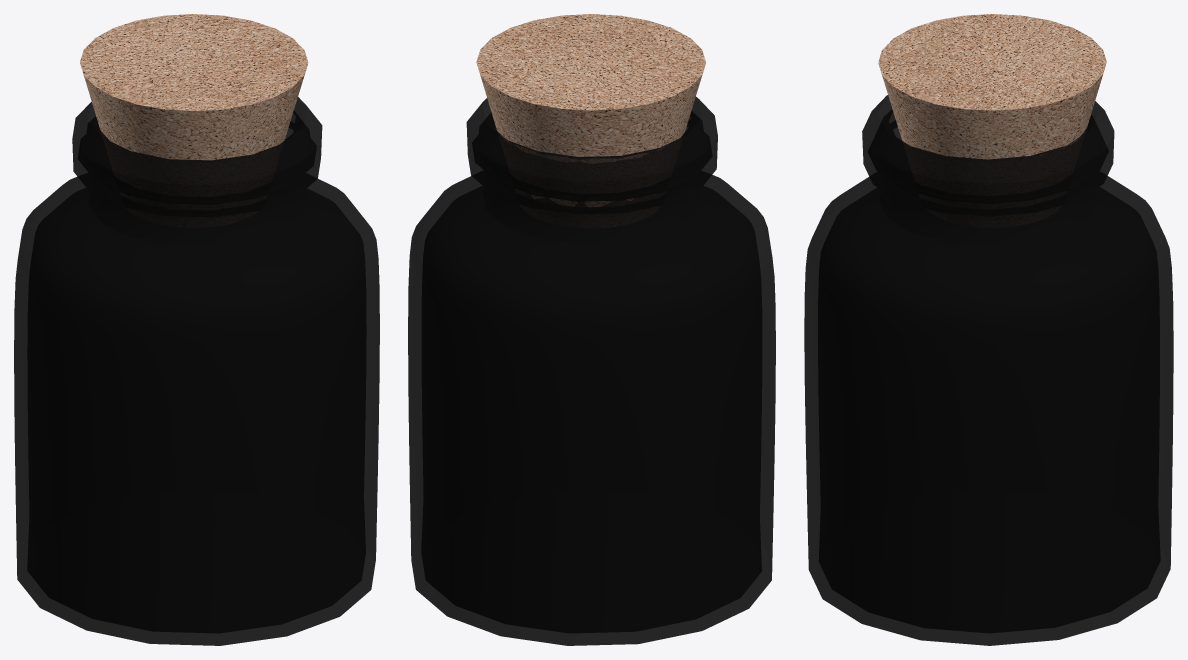
The model's file is corked_bottle.glb.
3 views of the same model, side by side, from view 1: azimuth 30°, elevation 25°; view 2: azimuth 150°, elevation 25°; view 3: azimuth 270°, elevation 25° (orthographic).
Visible parts, largest first — view 1: Line001_Material #48_0, Cone001; view 2: Line001_Material #48_0, Cone001; view 3: Line001_Material #48_0, Cone001.
Part boxes in pixels (x1,y1,x2,y2): Line001_Material #48_0: (14,97,379,645); Cone001: (80,14,308,160); Line001_Material #48_0: (408,97,775,645); Cone001: (476,14,706,206); Line001_Material #48_0: (804,95,1173,645); Cone001: (878,14,1106,159).
Size of the model in its own units: 103 by 156 by 103.
Materials: 2 (1 with a texture image).
